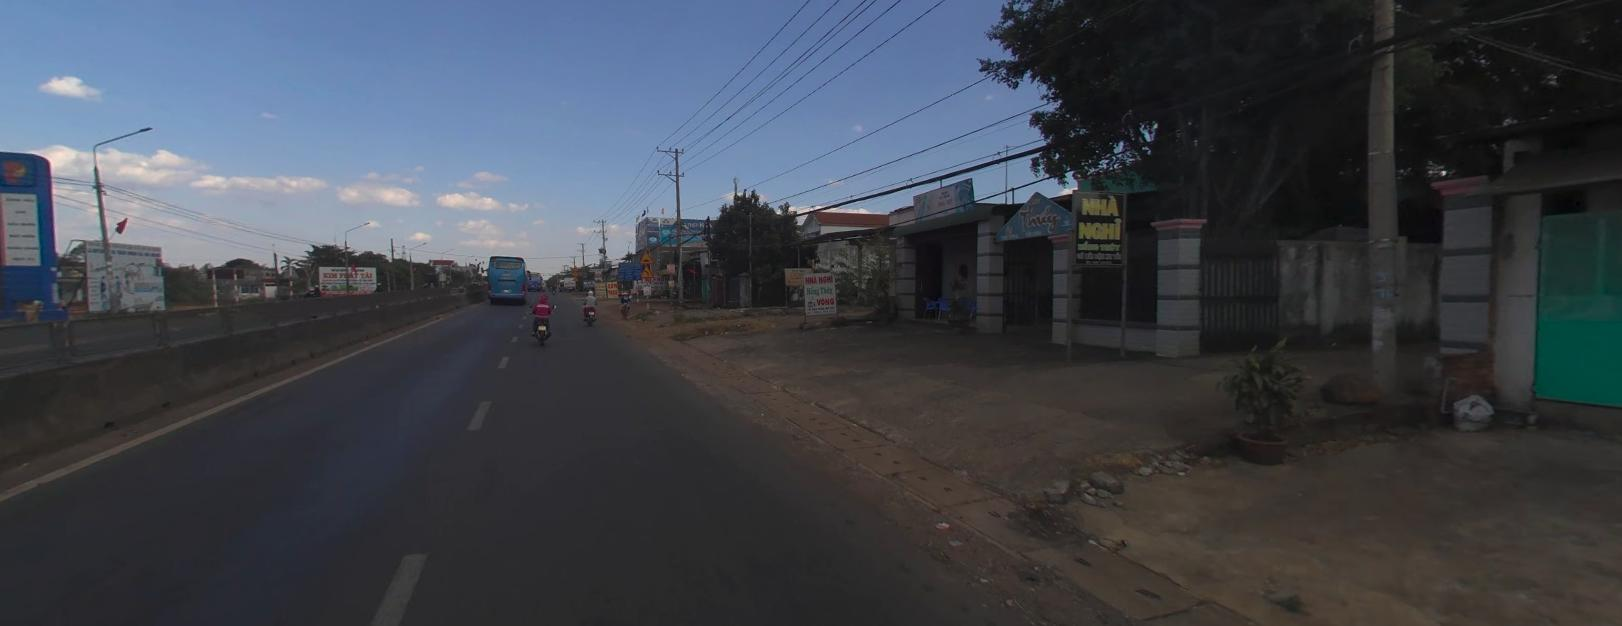Nguy hiem: (639, 249, 654, 261), (640, 264, 653, 276), (572, 264, 578, 269), (573, 275, 578, 280), (572, 270, 578, 274)
